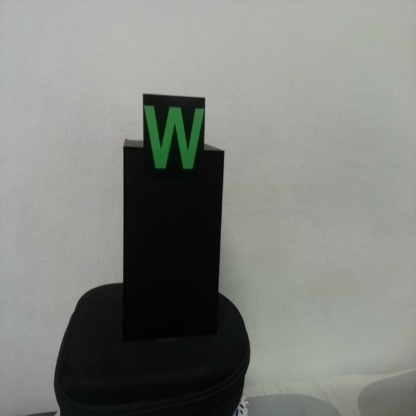id_12: (143, 94, 205, 184)
